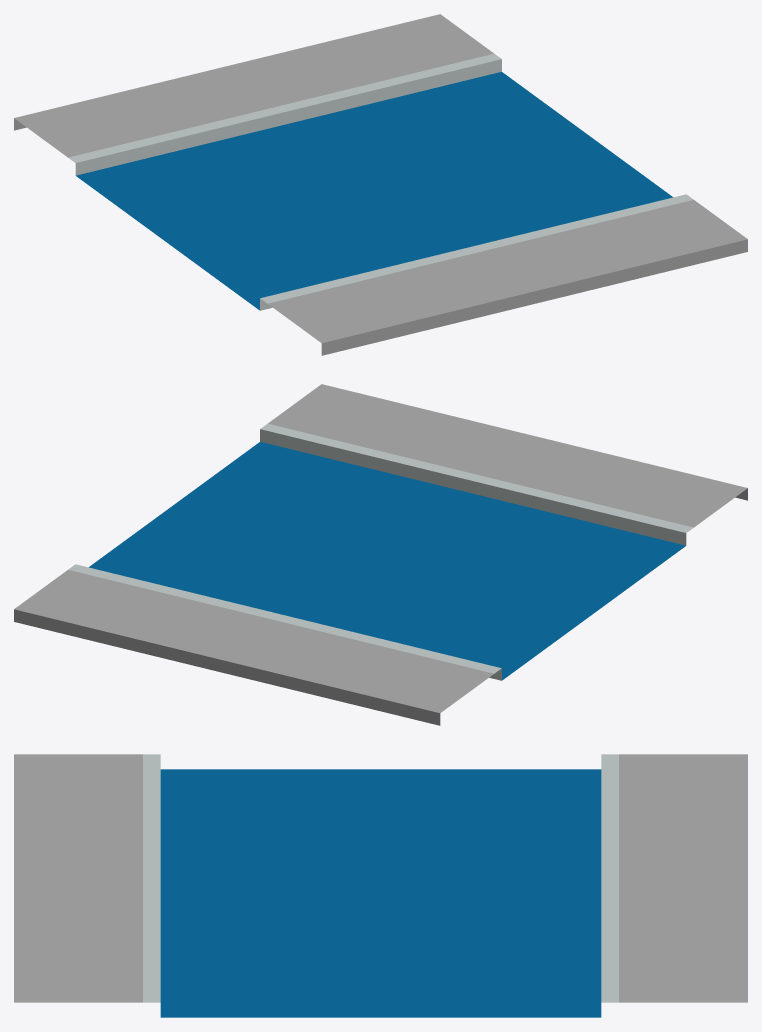
Rendered from Road_Wide.fbx.
3 renders of one model, top to bottom at view 1: azimuth 30°, elevation 25°; view 2: azimuth 150°, elevation 25°; view 3: azimuth 270°, elevation 25°, orthographic. The views are drawn at different scales.
Parts seen in each view (by area): view 1: Road_Wide; view 2: Road_Wide; view 3: Road_Wide.
Boxes of the visible parts, x1=… form: Road_Wide: x1=14, y1=14, x2=747, y2=355; Road_Wide: x1=14, y1=384, x2=747, y2=725; Road_Wide: x1=14, y1=754, x2=747, y2=1017.
Size of the model in its own units: 800 by 22.59 by 1000.
